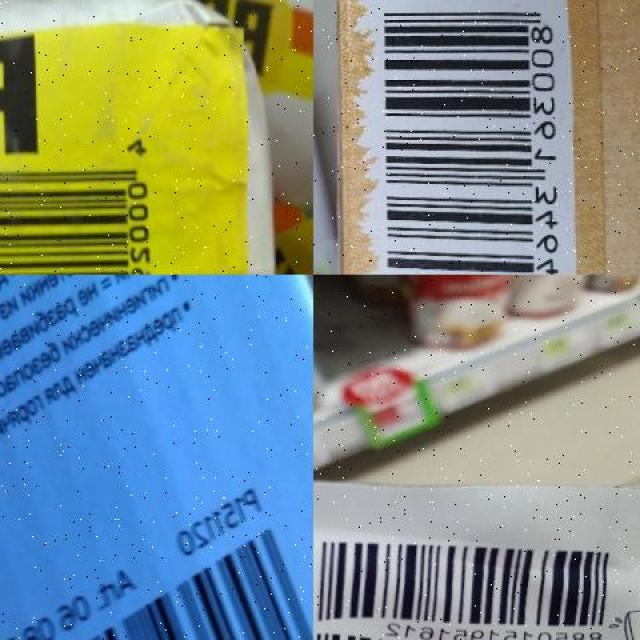Barcode: (371, 0, 565, 275), (0, 485, 313, 639), (314, 525, 626, 640), (0, 156, 161, 274)
